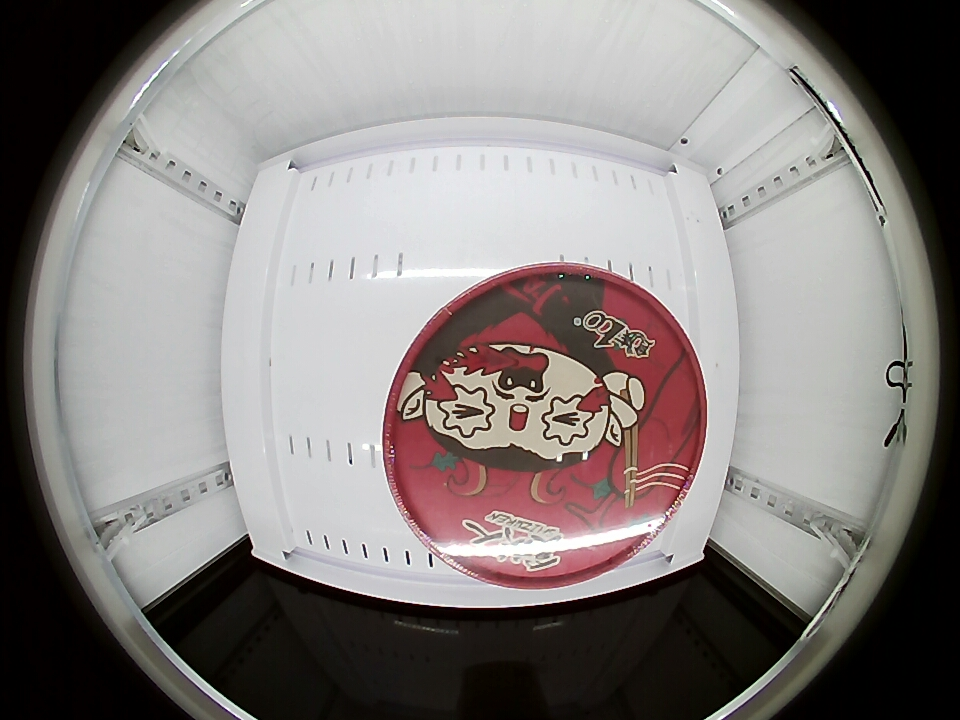suanlafen: (383, 264, 707, 586)
